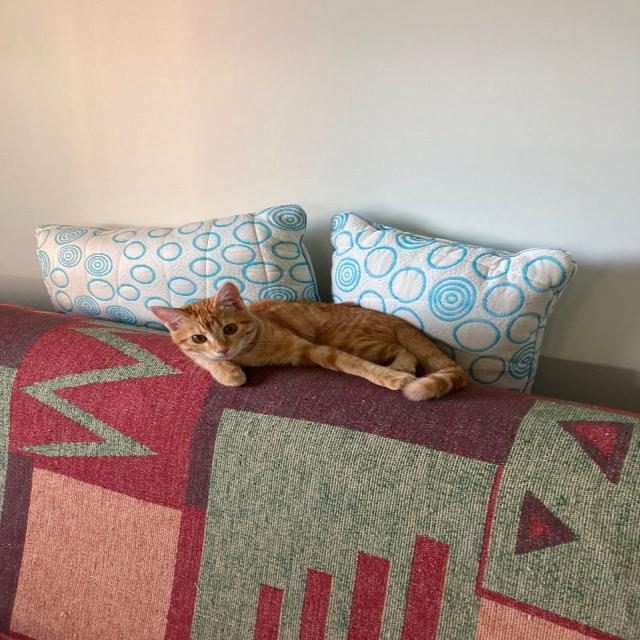red_cat: (142, 285, 470, 414)
